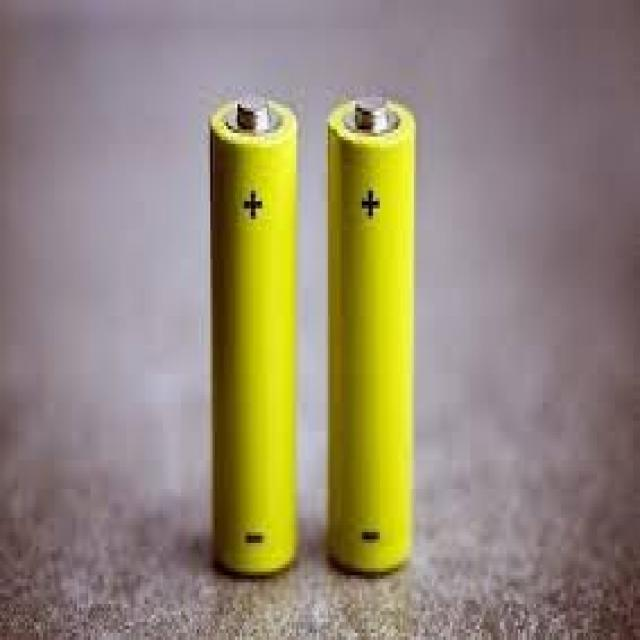battery: (212, 95, 298, 578), (329, 95, 415, 576)
